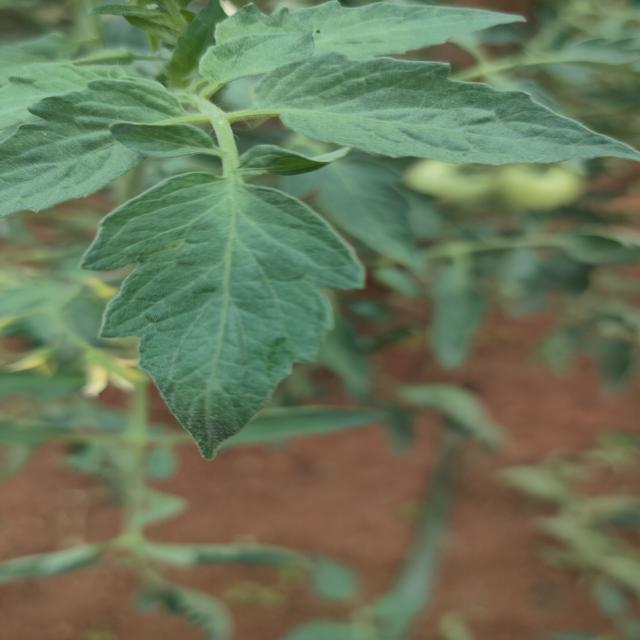tomato_healthy: (85, 168, 369, 459), (250, 53, 632, 165)
